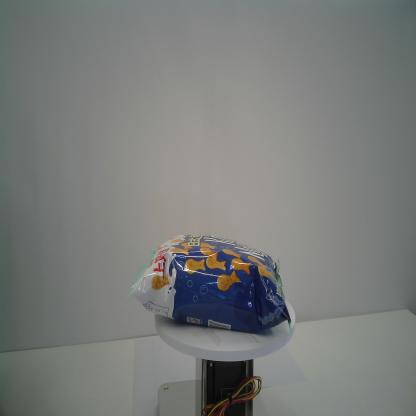Puffed Food: (126, 233, 292, 334)
